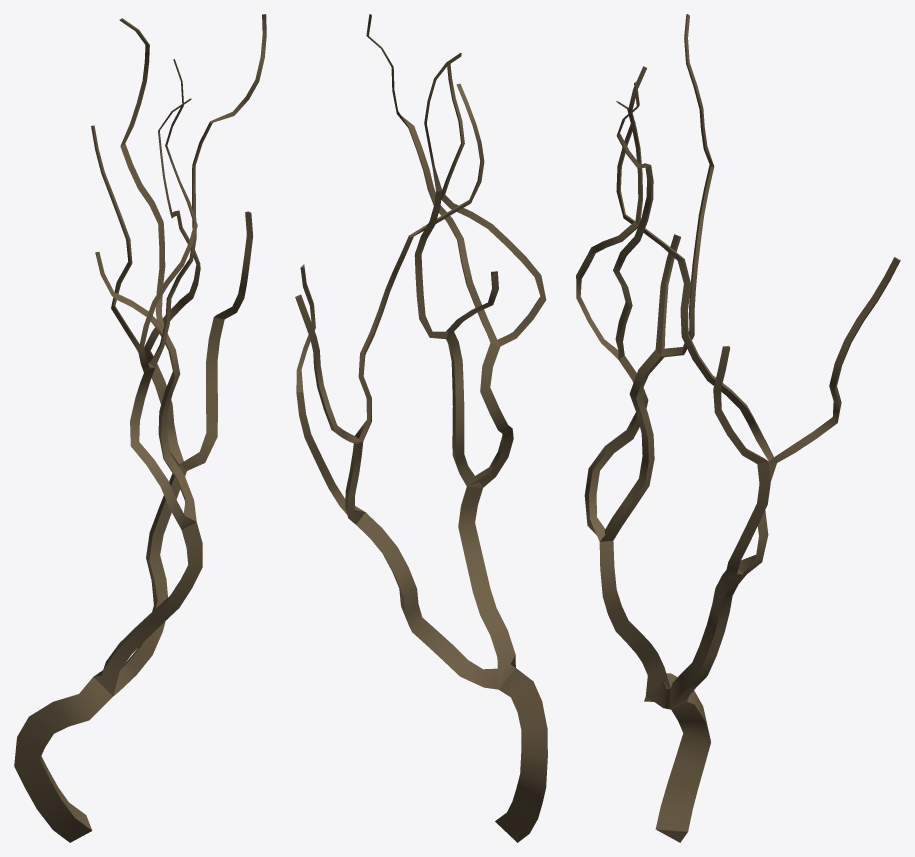
The model's file is plant_swamp_root_D_solo_A.fbx.
The picture shows the model from 3 angles, left to right: view 1: azimuth 30°, elevation 25°; view 2: azimuth 150°, elevation 25°; view 3: azimuth 270°, elevation 25°; orthographic projection. The views are drawn at different scales.
Parts seen in each view (by area): view 1: plant_swamp_root_D_solo_A; view 2: plant_swamp_root_D_solo_A; view 3: plant_swamp_root_D_solo_A.
Part boxes in pixels (left/top/right/bottom): plant_swamp_root_D_solo_A: left=14, top=14, right=266, bottom=842; plant_swamp_root_D_solo_A: left=295, top=14, right=547, bottom=842; plant_swamp_root_D_solo_A: left=576, top=14, right=900, bottom=842.
Bounding box in the file's own units: 178 × 564 × 193.
